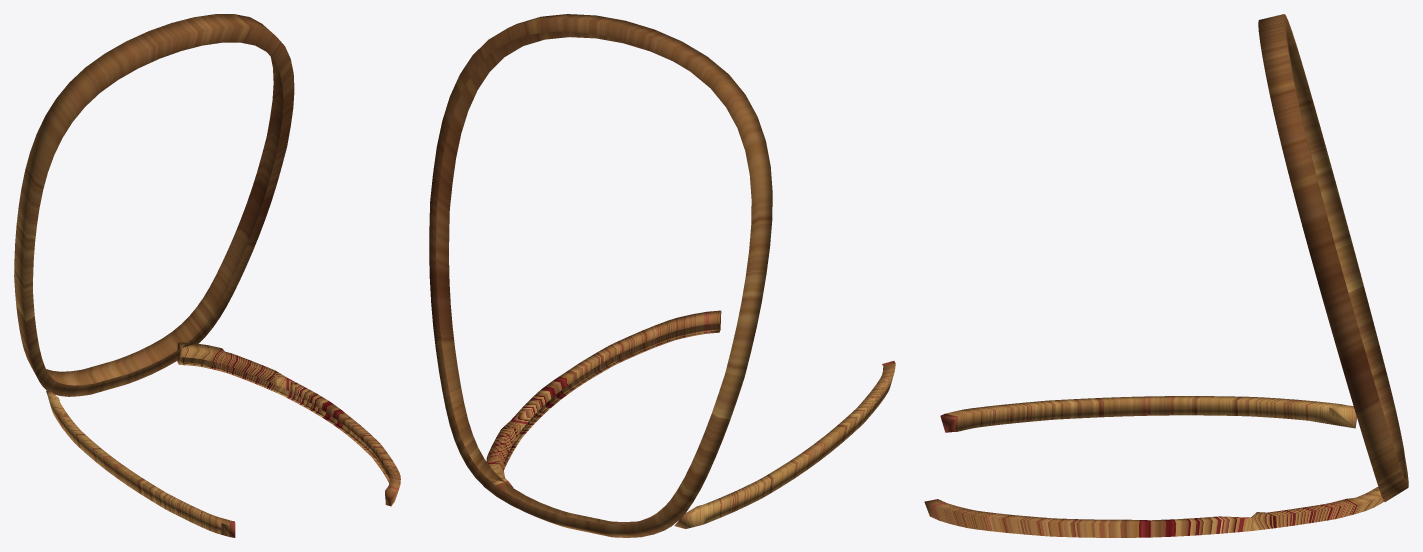
Rendered from Parts.fbx.
3 views of the same model, side by side, from view 1: azimuth 30°, elevation 25°; view 2: azimuth 150°, elevation 25°; view 3: azimuth 270°, elevation 25° (orthographic). The views are drawn at different scales.
Parts seen in each view (by area): view 1: HeartPart.001, BottomPart; view 2: HeartPart.001, BottomPart; view 3: HeartPart.001, BottomPart.
Boxes of the visible parts, x1,y1,x2,y2 form: HeartPart.001: [14, 14, 294, 396]; BottomPart: [46, 342, 400, 537]; HeartPart.001: [429, 14, 772, 537]; BottomPart: [486, 310, 895, 528]; HeartPart.001: [1258, 14, 1408, 501]; BottomPart: [924, 396, 1383, 537].
Size of the model in its own units: 463 by 647 by 629.
